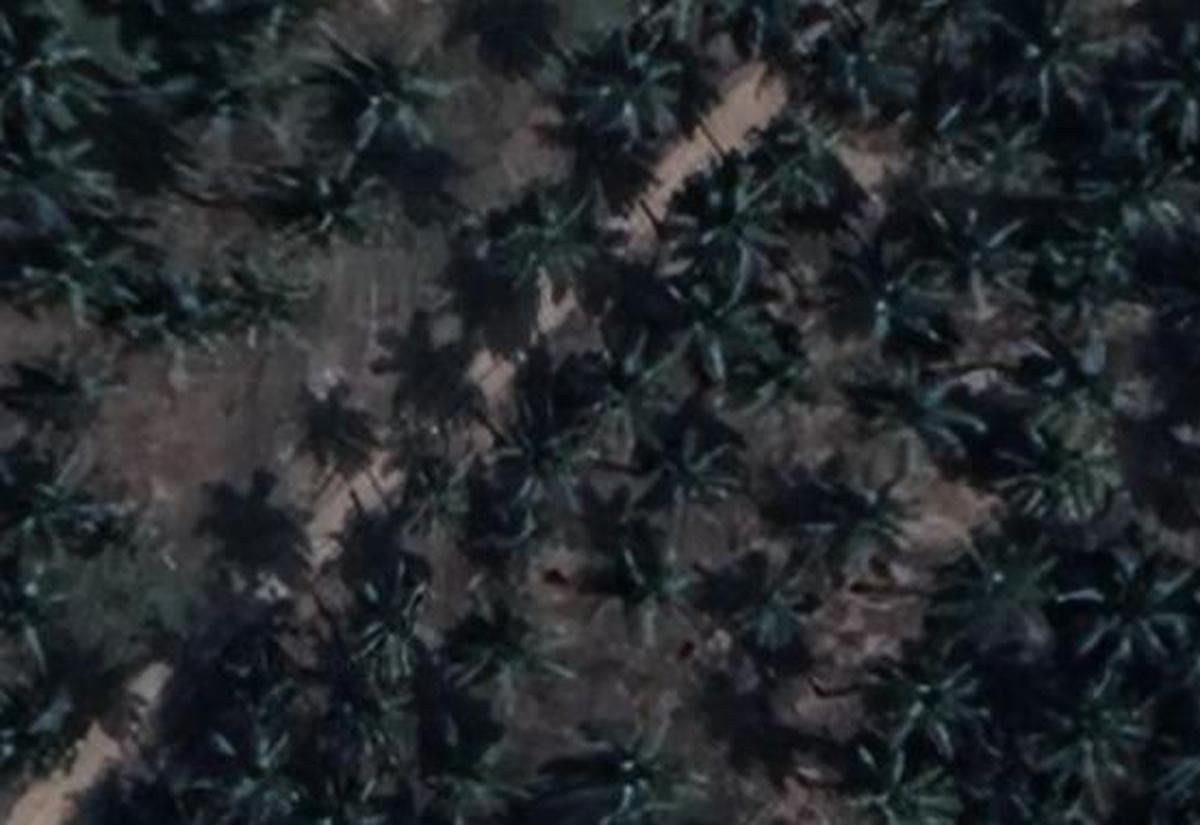coconut: (318, 32, 457, 162), (570, 699, 707, 825), (1071, 538, 1193, 662), (451, 581, 575, 703), (859, 633, 987, 751), (169, 23, 290, 143), (800, 462, 922, 581), (848, 351, 974, 466), (948, 516, 1054, 651), (835, 240, 954, 360), (998, 408, 1130, 516), (572, 34, 690, 154), (6, 106, 125, 221), (416, 712, 535, 825), (707, 547, 824, 660), (1037, 670, 1147, 790), (915, 195, 1032, 306), (0, 8, 106, 130), (271, 134, 392, 240), (479, 184, 601, 288), (677, 165, 783, 277), (1082, 143, 1195, 247), (807, 15, 922, 117), (6, 449, 106, 566), (17, 232, 136, 330), (674, 264, 787, 366), (575, 327, 679, 436), (342, 573, 449, 677), (494, 405, 605, 505), (592, 527, 696, 633), (188, 705, 286, 816), (214, 240, 312, 349), (312, 664, 412, 770), (998, 19, 1098, 123), (637, 429, 742, 527), (2, 347, 110, 442), (132, 251, 227, 356), (1032, 217, 1137, 308), (755, 132, 850, 232), (839, 757, 963, 825), (394, 451, 488, 540), (1022, 332, 1117, 412), (954, 744, 1045, 825), (0, 673, 69, 779)
